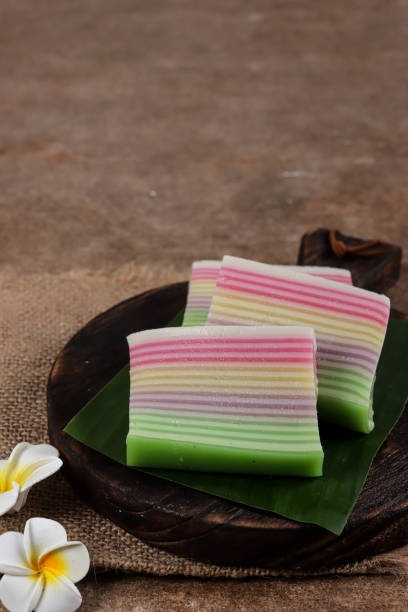kue_lapis_pelangi: (125, 323, 327, 477)
